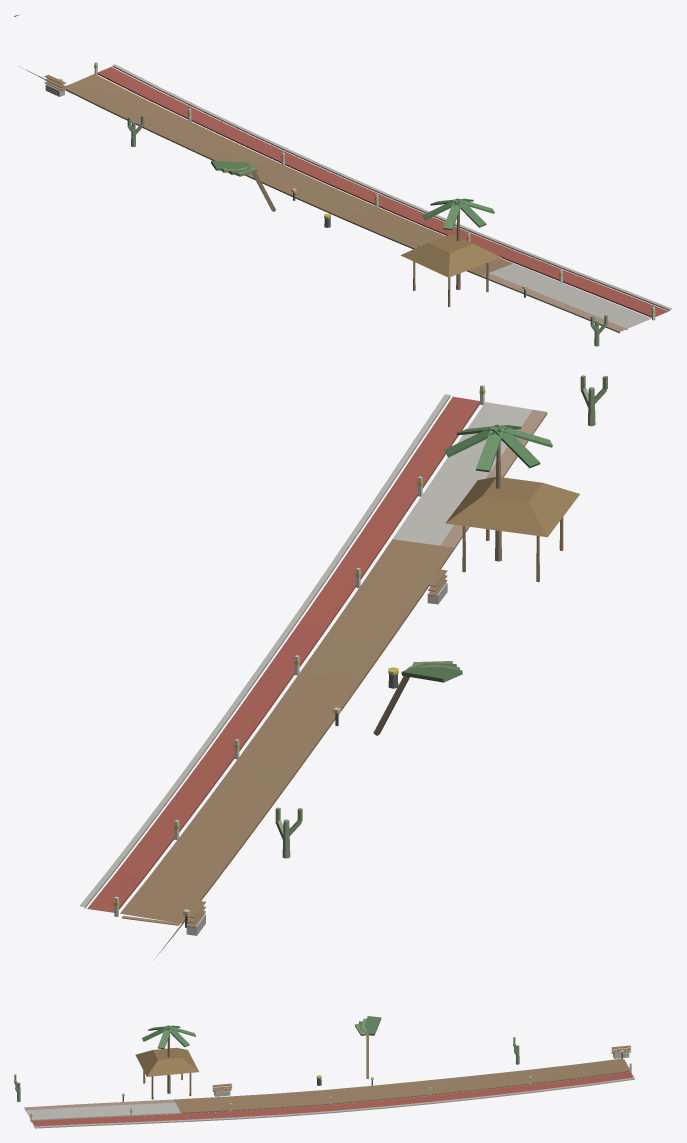
Rendered from nw_mk_boca_s.glb.
3 views of the same model, one above another, from view 1: azimuth 30°, elevation 25°; view 2: azimuth 150°, elevation 25°; view 3: azimuth 270°, elevation 25° (orthographic). The views are drawn at different scales.
Visible parts, largest first — view 1: nw_mk_boca_s_lod0; view 2: nw_mk_boca_s_lod0; view 3: nw_mk_boca_s_lod0.
Boxes of the visible parts, x1,y1,x2,y2 form: nw_mk_boca_s_lod0: (14, 14, 672, 346); nw_mk_boca_s_lod0: (79, 375, 607, 959); nw_mk_boca_s_lod0: (14, 1016, 634, 1128).
Size of what is drawn, in the model's own units: 17.51 by 6.31 by 52.7.
